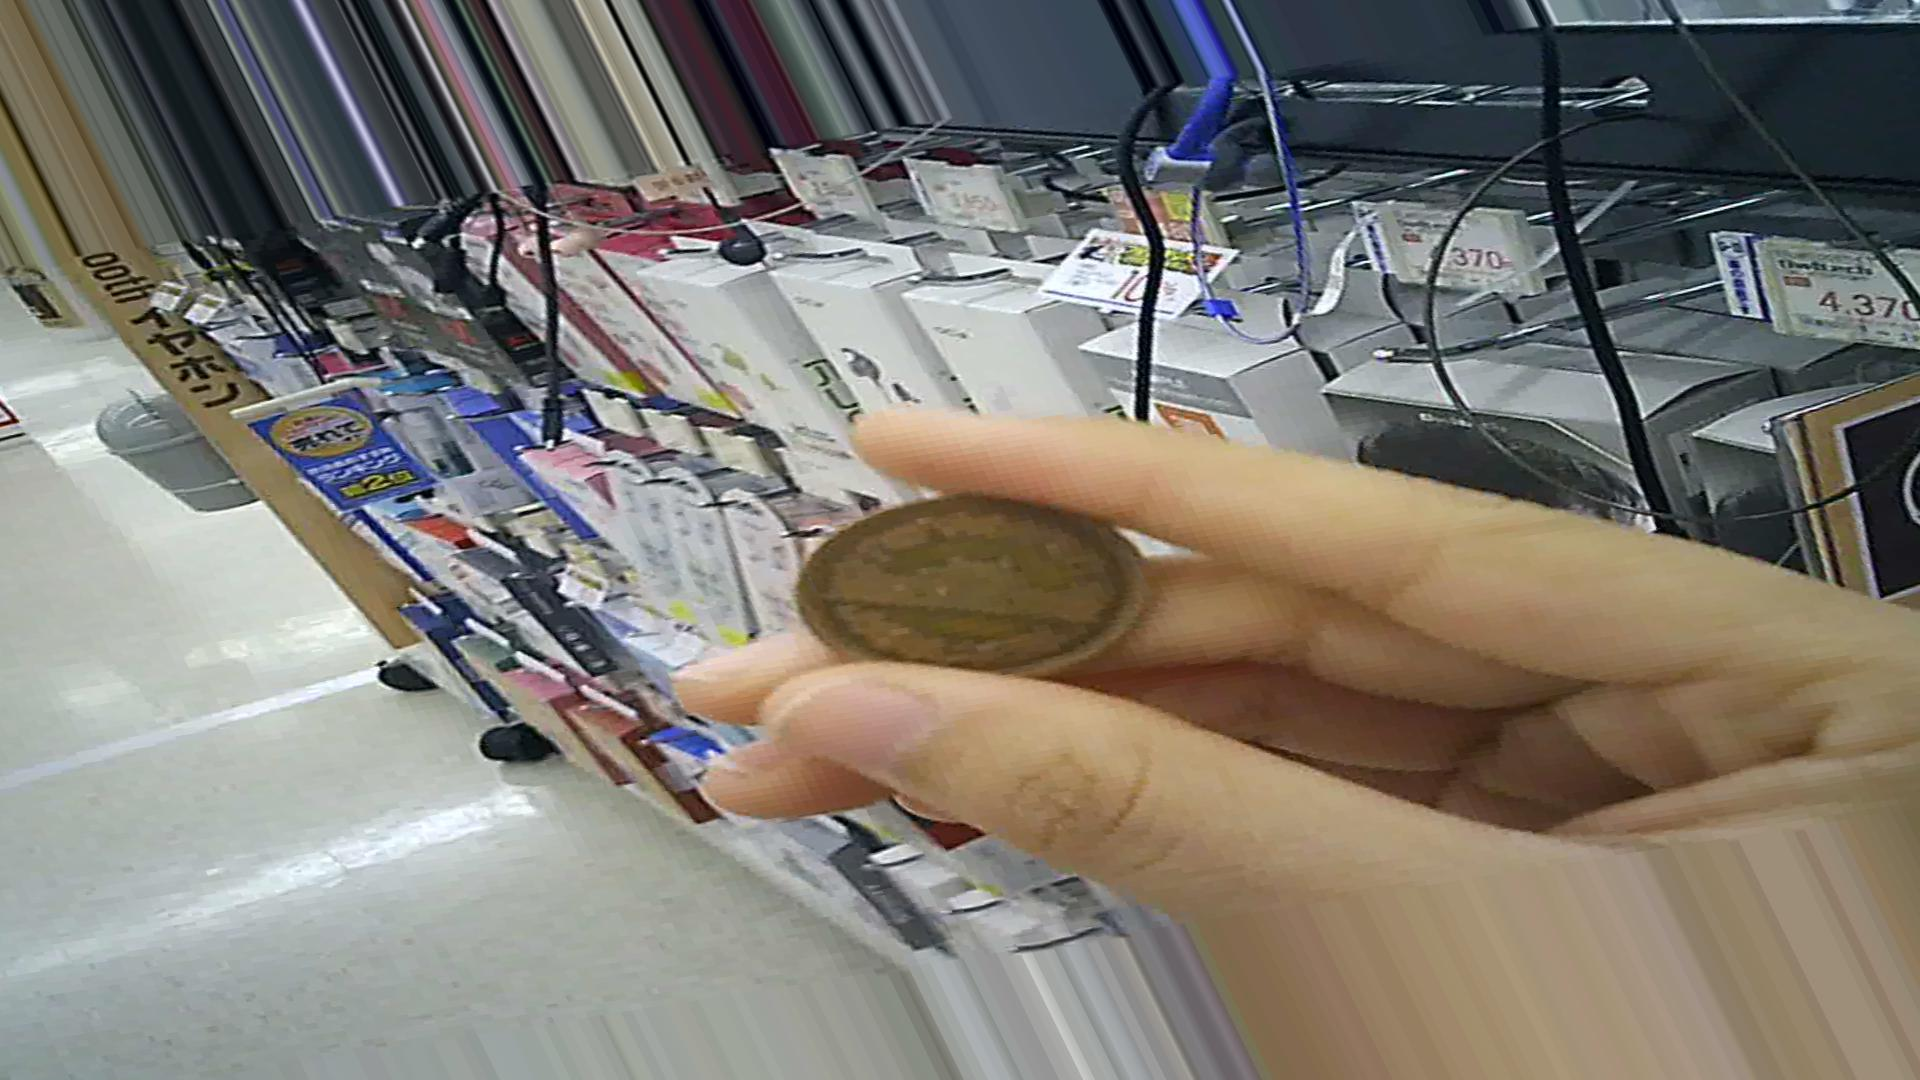10 Yen: (782, 495, 1137, 704)
